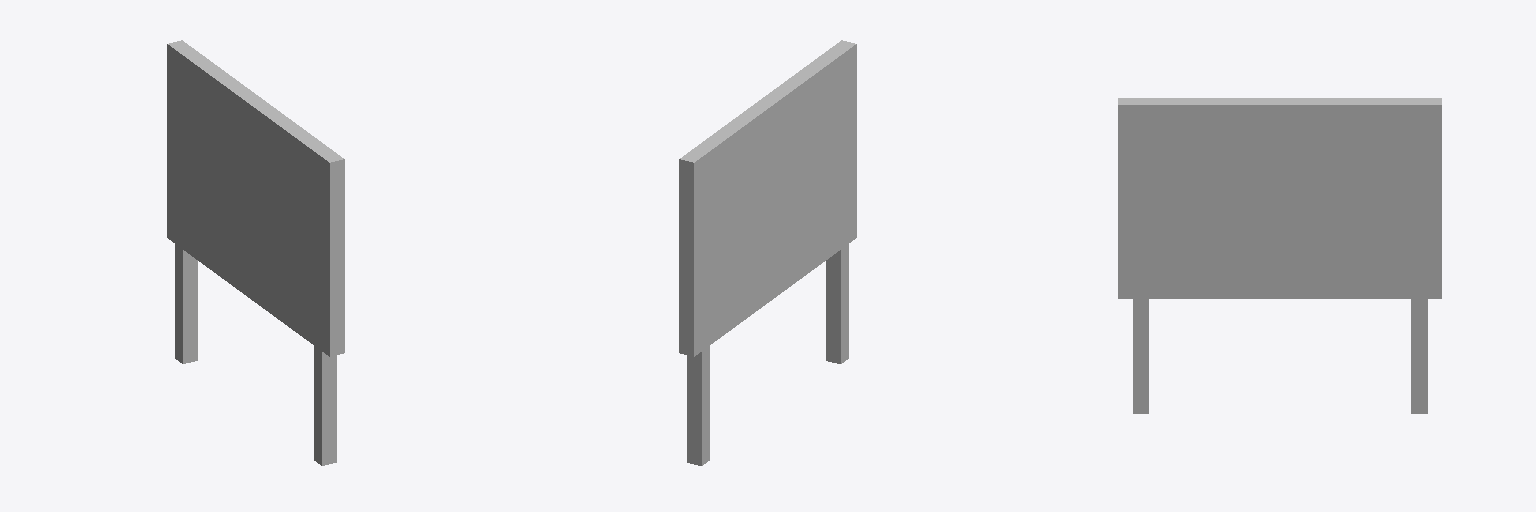
Rendered from Tutorial SIgn.obj.
The picture shows the model from 3 angles: view 1: azimuth 30°, elevation 25°; view 2: azimuth 150°, elevation 25°; view 3: azimuth 270°, elevation 25°; orthographic projection.
Visible parts, largest first — view 1: Cube_Cube.001; view 2: Cube_Cube.001; view 3: Cube_Cube.001.
Boxes of the visible parts, x1,y1,x2,y2 form: Cube_Cube.001: [167, 40, 344, 465]; Cube_Cube.001: [679, 40, 856, 465]; Cube_Cube.001: [1118, 98, 1441, 413].
Size of the model in its own units: 0.3197 by 6.3 by 6.